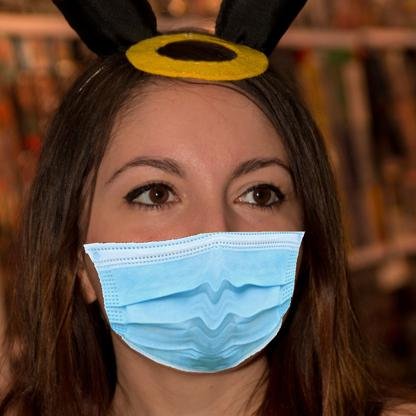mask: (77, 230, 310, 374)
